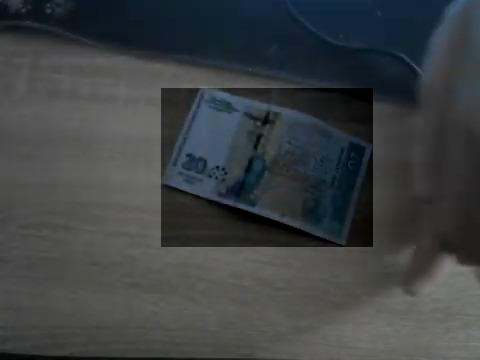20leva: (161, 88, 373, 247)
